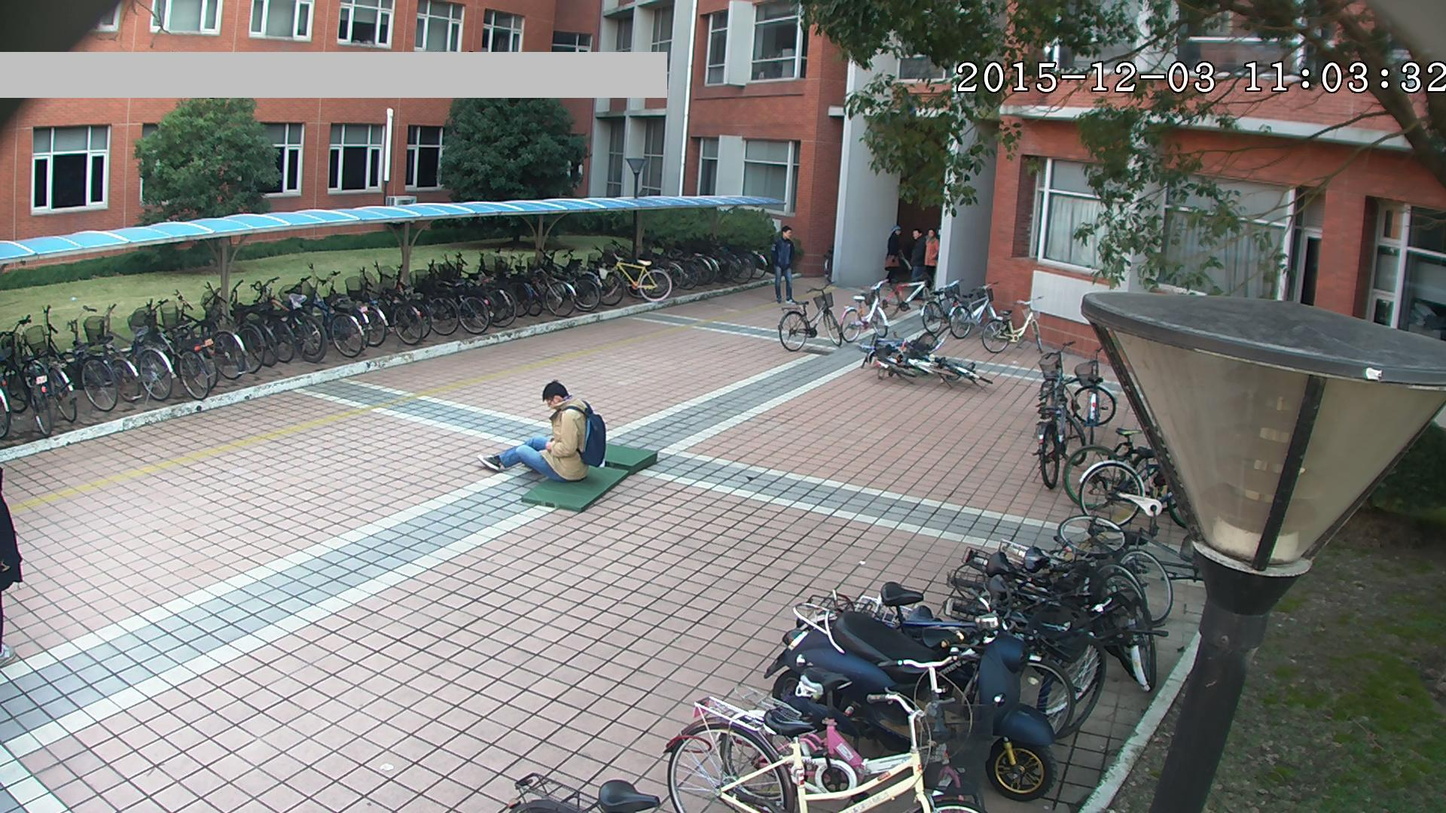person: (485, 376, 607, 488), (761, 219, 803, 307)
